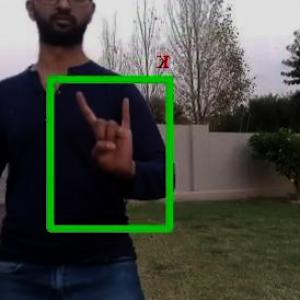takeoff-hand: (69, 83, 142, 193)
